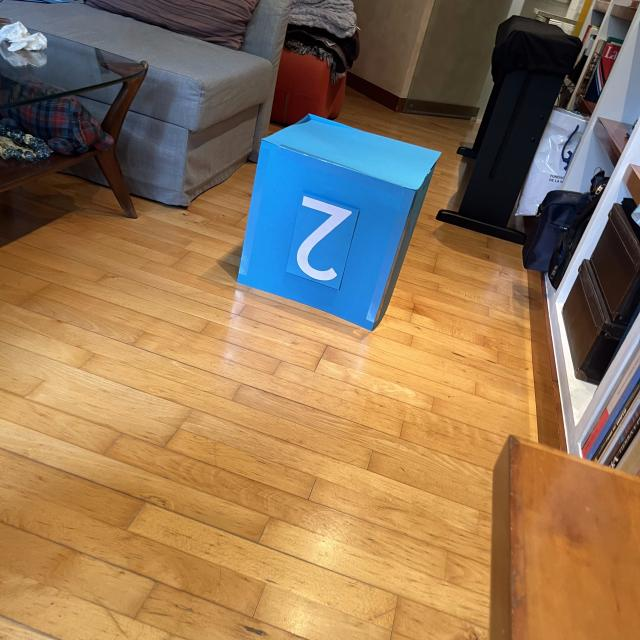box: (233, 110, 442, 334)
